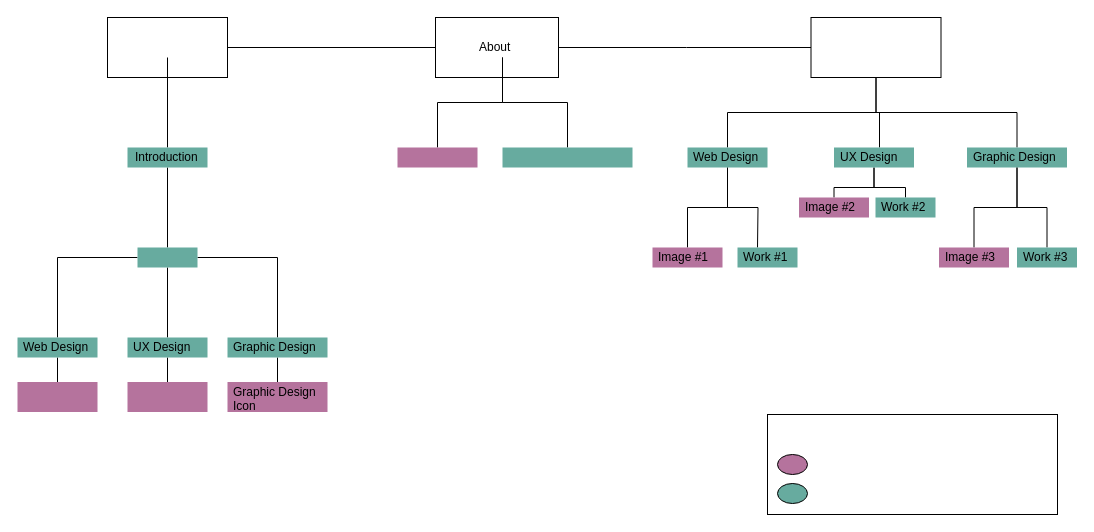
Some shapes in this 1094 by 532 pixel diagram are drawn without their labels. The shapes that lost their labels are listed below. From the top down, each one's box as (x1, y1, x2, y2) in pixels, then its label:
(106, 16, 228, 78): Home
(810, 16, 941, 78): Work
(397, 147, 477, 167): Image of me
(502, 147, 632, 167): About me description
(137, 247, 197, 267): Services
(17, 382, 97, 412): Web Design Icon
(127, 382, 207, 412): UX Design Icon
(766, 414, 1058, 514): Key : = Image = Embedded in Site
